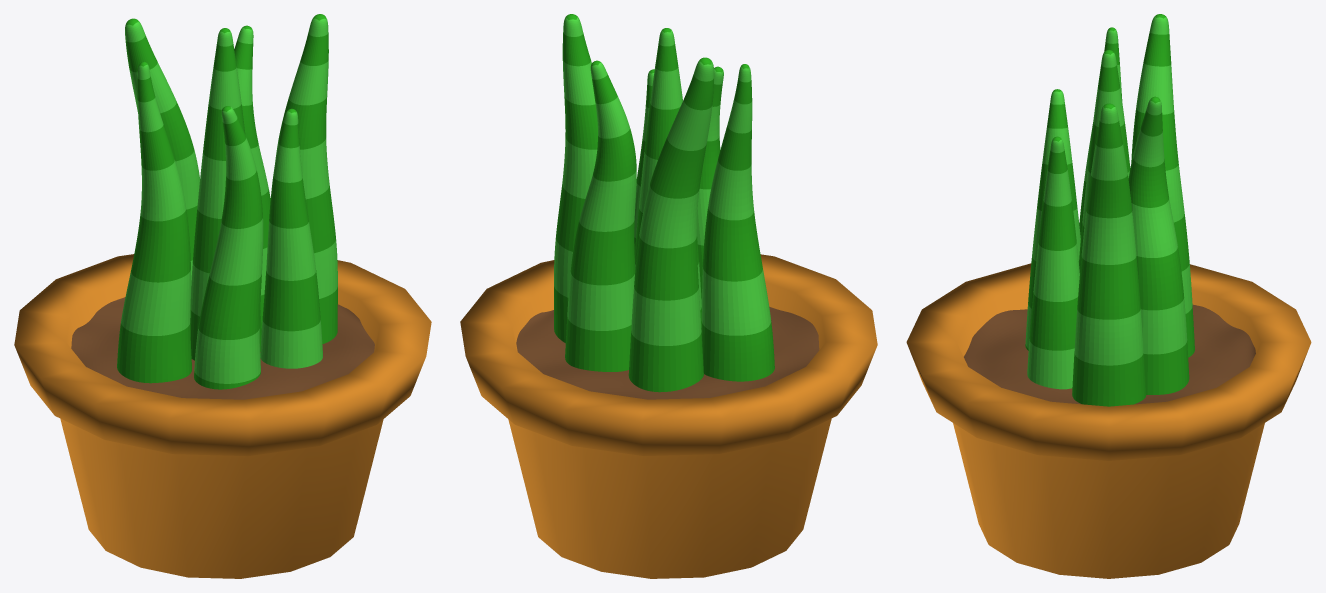
File: Cylindricalsnake.fbx
3 views of the same model, side by side, from view 1: azimuth 30°, elevation 25°; view 2: azimuth 150°, elevation 25°; view 3: azimuth 270°, elevation 25° (orthographic). The views are drawn at different scales.
Visible parts, largest first — view 1: Plane.011, Circle.007, Circle.011, Circle.010, Circle.005, Circle.006, Circle.004, Circle.008, Circle.009; view 2: Plane.011, Circle.008, Circle.009, Circle.007, Circle.005, Circle.006, Circle.004, Circle.011, Circle.010; view 3: Plane.011, Circle.006, Circle.009, Circle.010, Circle.005, Circle.008, Circle.011, Circle.004, Circle.007.
Part boxes in pixels (left/top/right/bottom): Plane.011: left=14, top=254, right=431, bottom=578; Circle.007: left=117, top=61, right=191, bottom=383; Circle.011: left=194, top=106, right=263, bottom=389; Circle.010: left=260, top=108, right=322, bottom=368; Circle.005: left=71, top=297, right=374, bottom=399; Circle.006: left=275, top=14, right=337, bottom=344; Circle.004: left=190, top=28, right=261, bottom=360; Circle.008: left=125, top=18, right=199, bottom=285; Circle.009: left=234, top=25, right=270, bottom=329; Plane.011: left=460, top=254, right=877, bottom=578; Circle.008: left=628, top=57, right=714, bottom=392; Circle.009: left=565, top=60, right=636, bottom=371; Circle.007: left=701, top=64, right=774, bottom=381; Circle.005: left=516, top=307, right=819, bottom=399; Circle.006: left=554, top=14, right=597, bottom=342; Circle.004: left=634, top=28, right=701, bottom=327; Circle.011: left=697, top=66, right=723, bottom=303; Circle.010: left=634, top=69, right=654, bottom=254; Plane.011: left=906, top=263, right=1311, bottom=578; Circle.006: left=1072, top=103, right=1146, bottom=406; Circle.009: left=1128, top=96, right=1189, bottom=394; Circle.010: left=1027, top=136, right=1079, bottom=389; Circle.005: left=964, top=304, right=1255, bottom=404; Circle.008: left=1131, top=14, right=1194, bottom=357; Circle.011: left=1025, top=89, right=1080, bottom=350; Circle.004: left=1079, top=50, right=1130, bottom=272; Circle.007: left=1079, top=27, right=1122, bottom=237.
Size of the model in its own units: 22.67 by 29.63 by 22.67.
